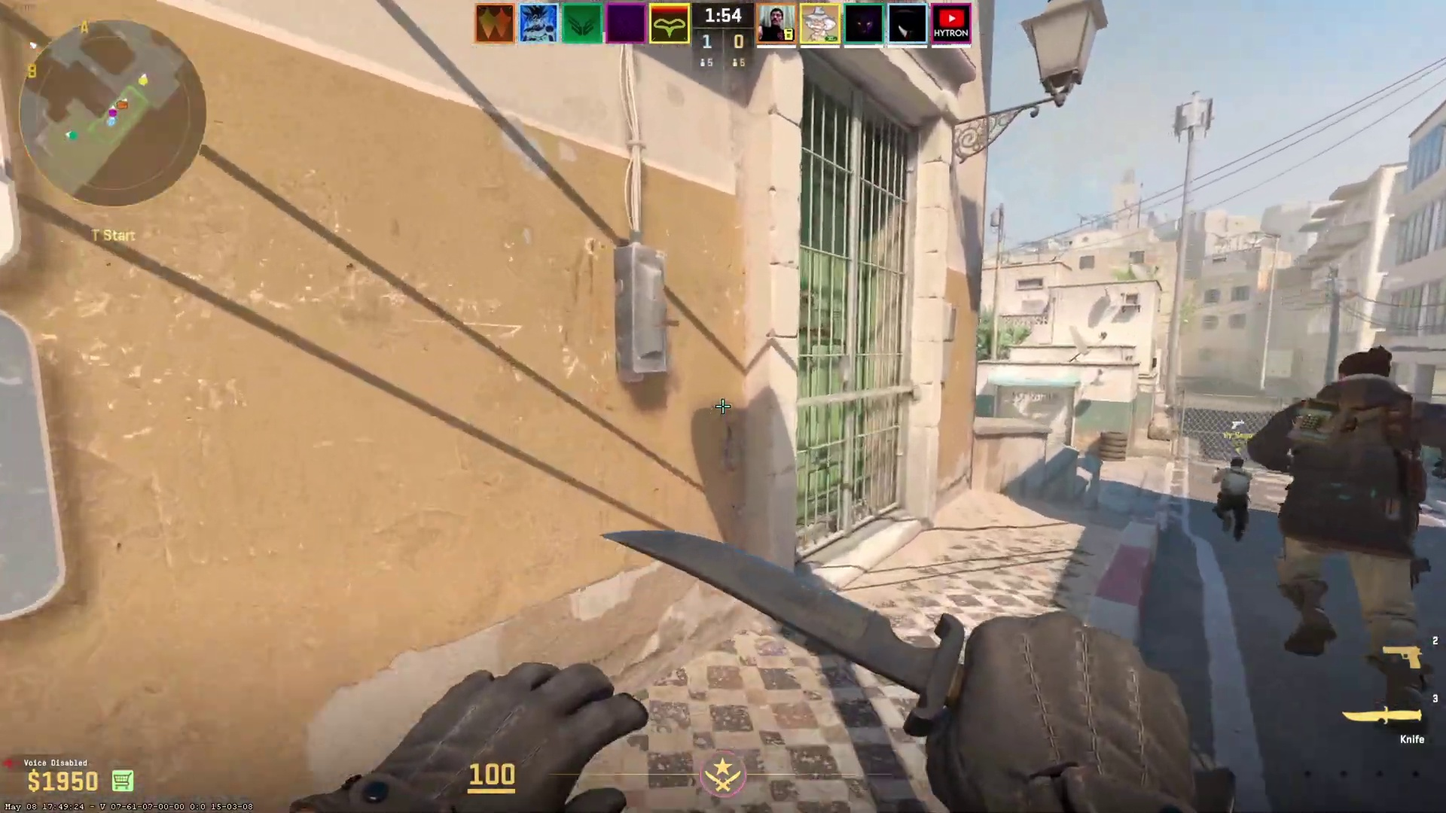Terrorist: (1281, 347, 1437, 737), (1218, 458, 1251, 542)
